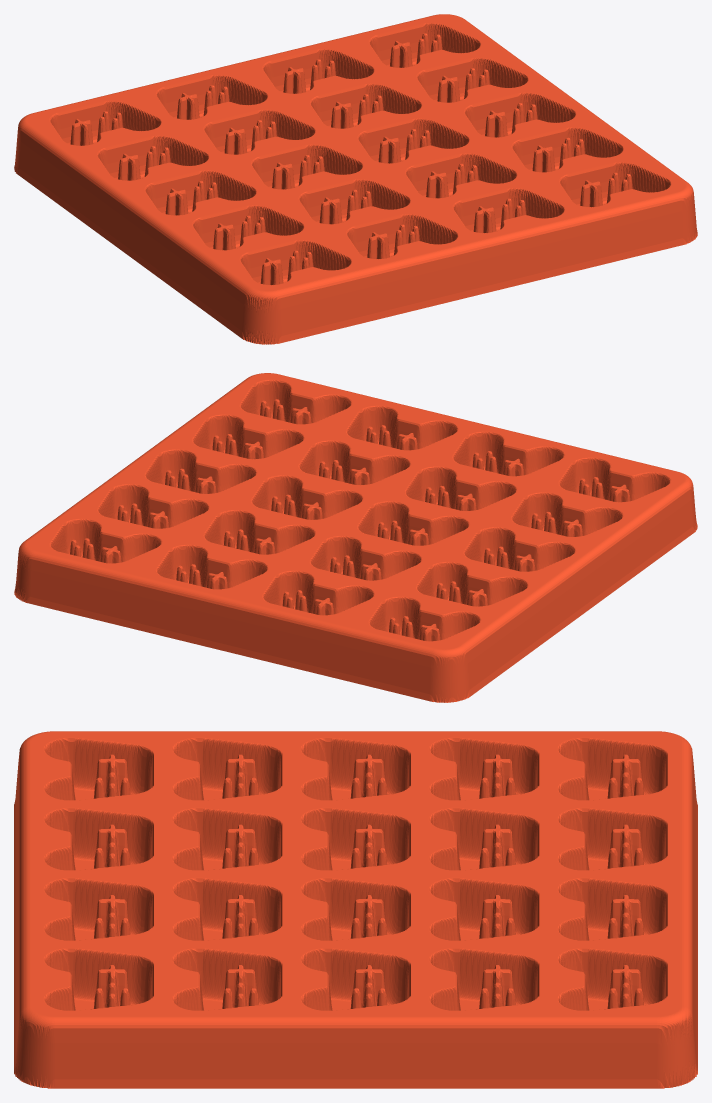
File: mold.glb
The picture shows the model from 3 angles, top to bottom: view 1: azimuth 30°, elevation 25°; view 2: azimuth 150°, elevation 25°; view 3: azimuth 270°, elevation 25°; orthographic projection. The views are drawn at different scales.
Visible parts, largest first — view 1: geometry_0; view 2: geometry_0; view 3: geometry_0.
Boxes of the visible parts, x1,y1,x2,y2 form: geometry_0: (14, 14, 697, 344); geometry_0: (14, 373, 697, 702); geometry_0: (14, 731, 697, 1088).
Size of the model in its own units: 0.1563 by 0.0159 by 0.1515.
